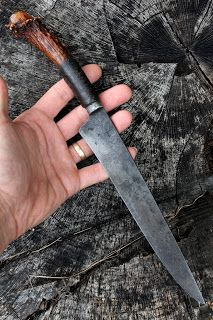knife: (4, 8, 208, 311)
